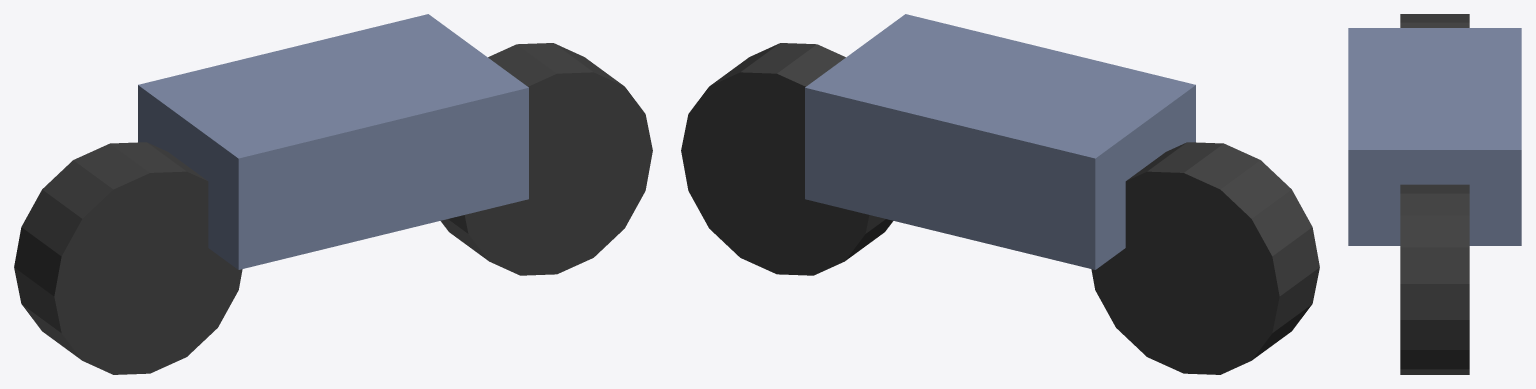
File: vehicle_atv.glb
3 views of the same model, side by side, from view 1: azimuth 30°, elevation 25°; view 2: azimuth 150°, elevation 25°; view 3: azimuth 270°, elevation 25° (orthographic). The views are drawn at different scales.
Parts seen in each view (by area): view 1: vehicle_atv; view 2: vehicle_atv; view 3: vehicle_atv.
Boxes of the visible parts, bbox=[...] form: vehicle_atv: bbox=[14, 14, 652, 374]; vehicle_atv: bbox=[681, 14, 1319, 374]; vehicle_atv: bbox=[1348, 14, 1521, 374].
Size of the model in its own units: 2.06 by 0.7333 by 0.6.
